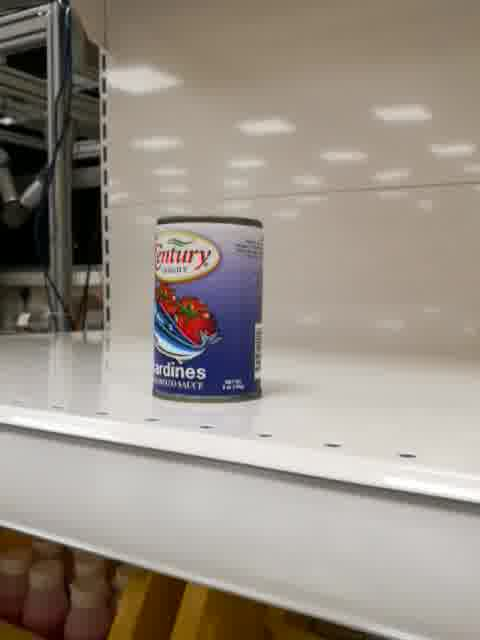sardine: (151, 215, 266, 403)
